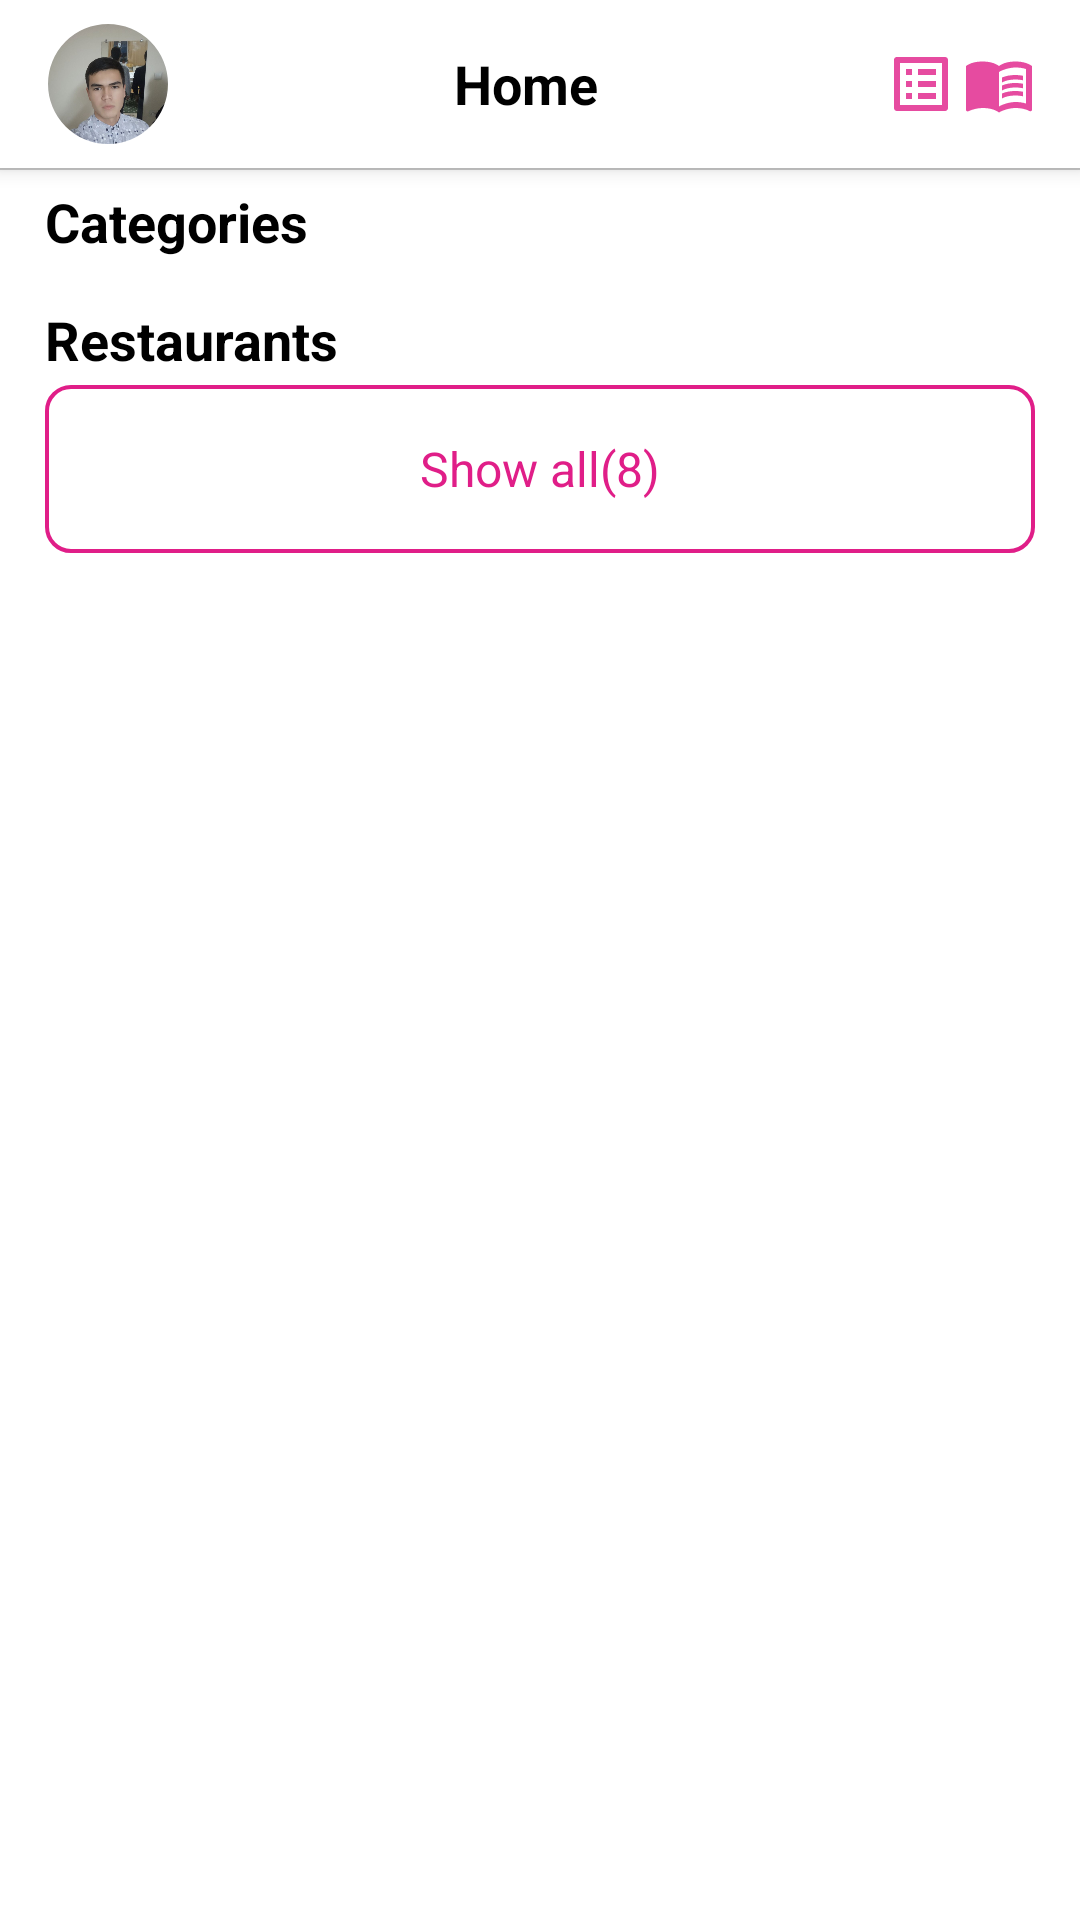

Icons on this 1080px x 1920px Android screen, each with its box as BBox(x1, y1, x2, y2):
book: BBox(966, 61, 1032, 113)
list: BBox(894, 57, 948, 111)
photo: BBox(48, 24, 168, 144)
